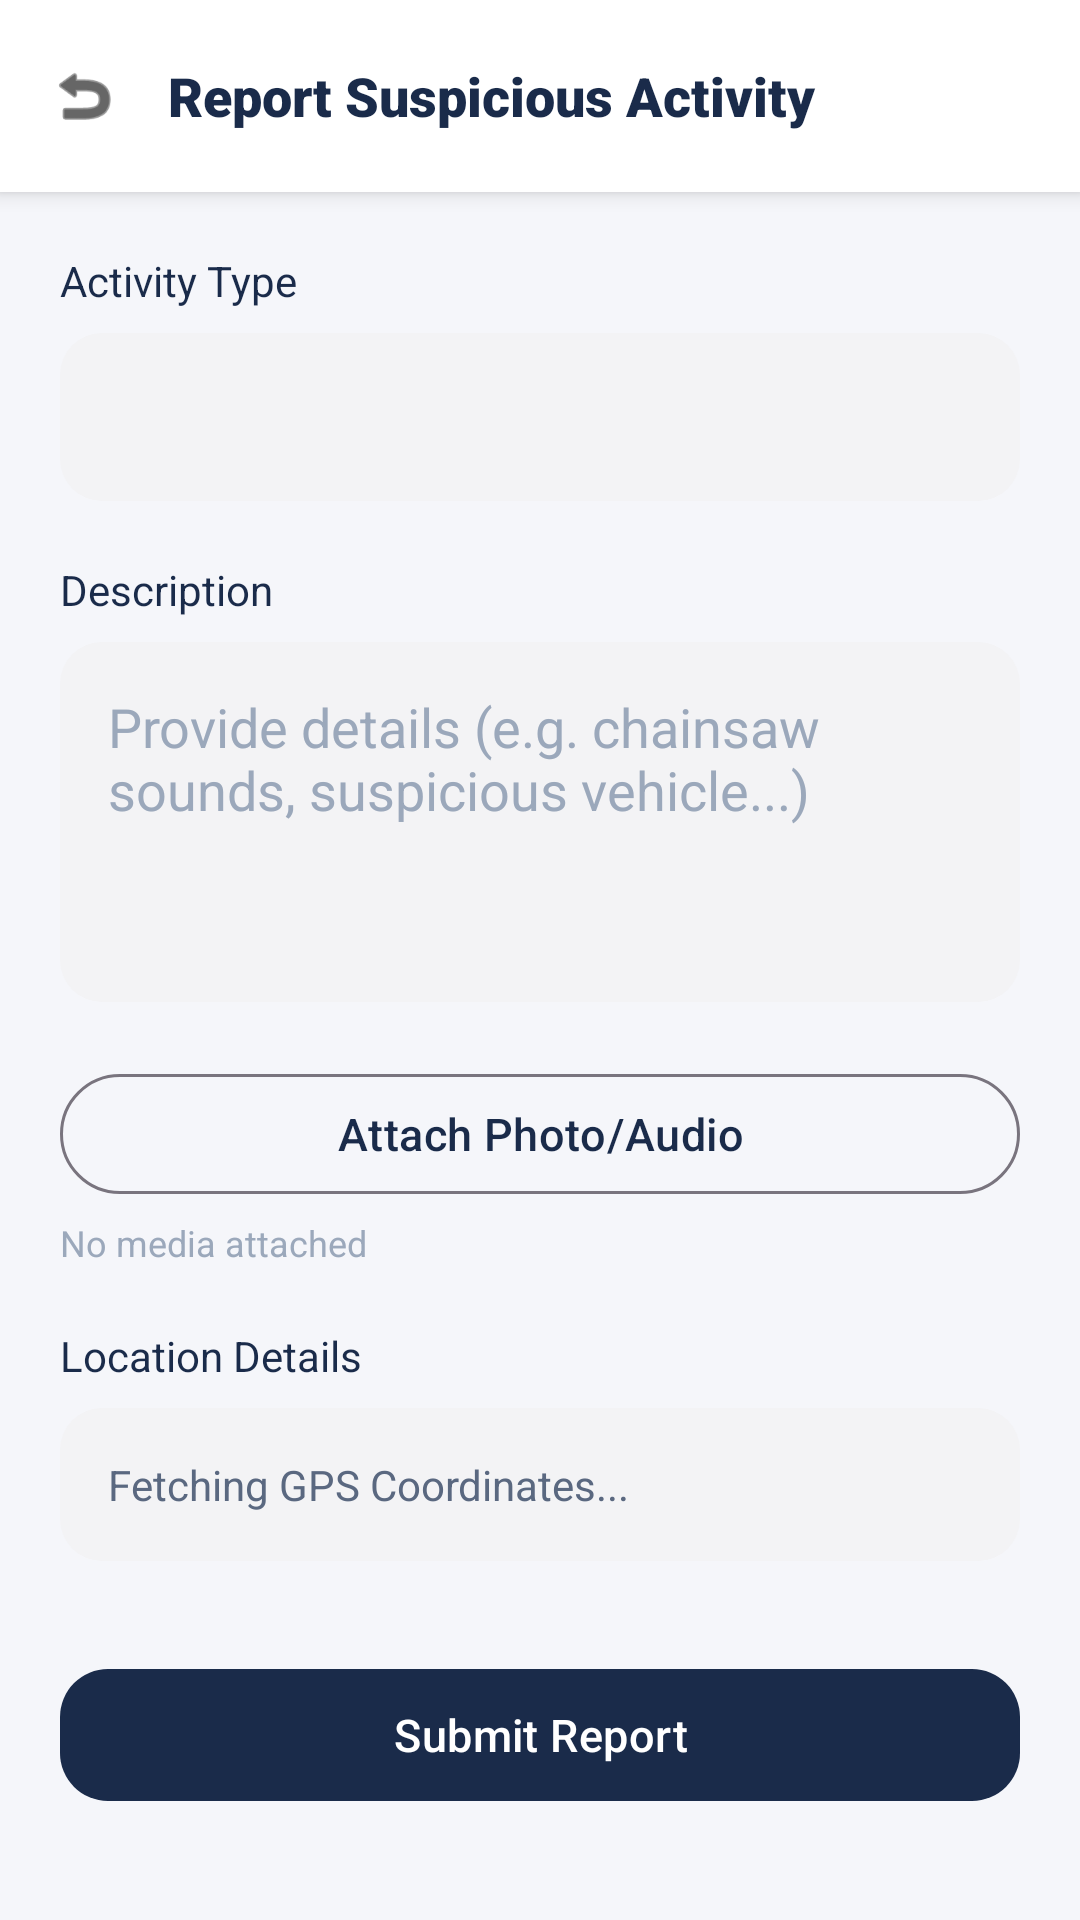

Point at icon controls on the screen. Image size 1080w x 1920h, points as (x,y).
revert: (85,96)
